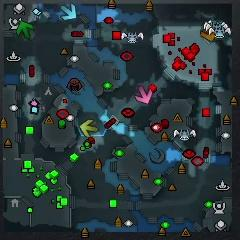x1: (135, 86, 153, 105)
x2: (80, 118, 99, 138)
x3: (60, 4, 78, 21)
x4: (16, 21, 34, 41)
x5: (200, 30, 217, 41)
